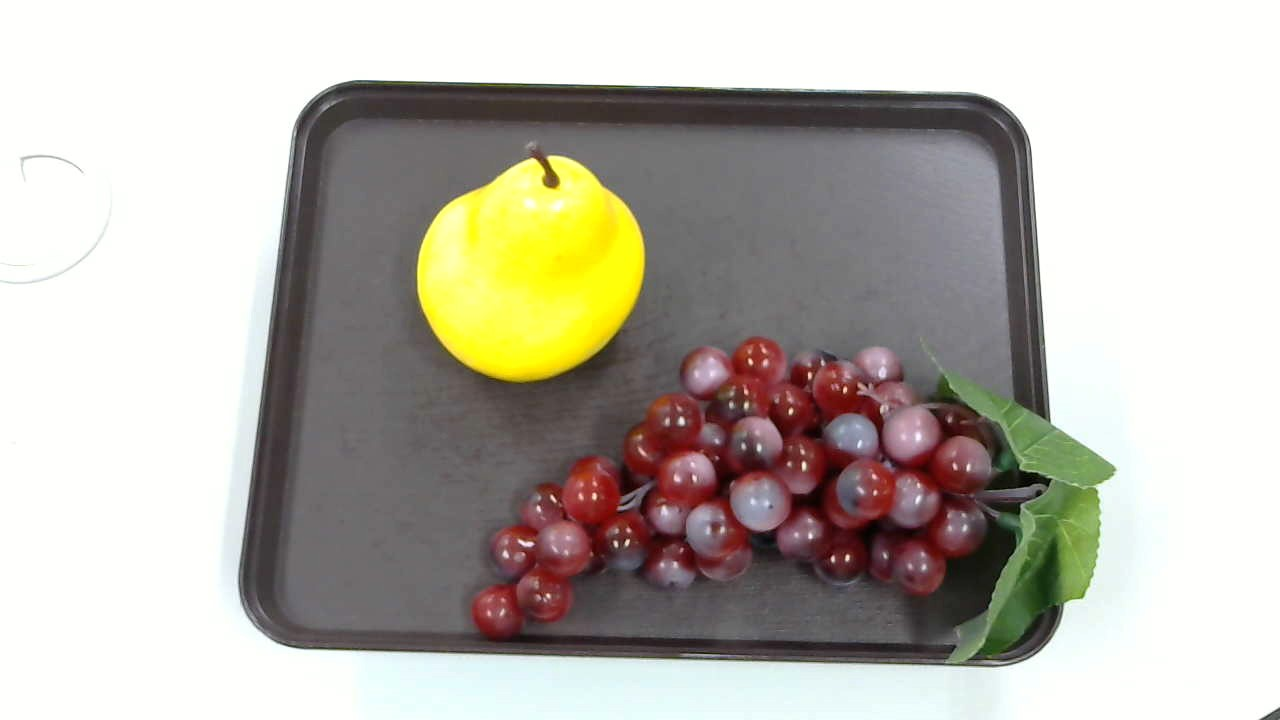grape: (476, 332, 1105, 664)
yellow pear: (415, 142, 647, 385)
